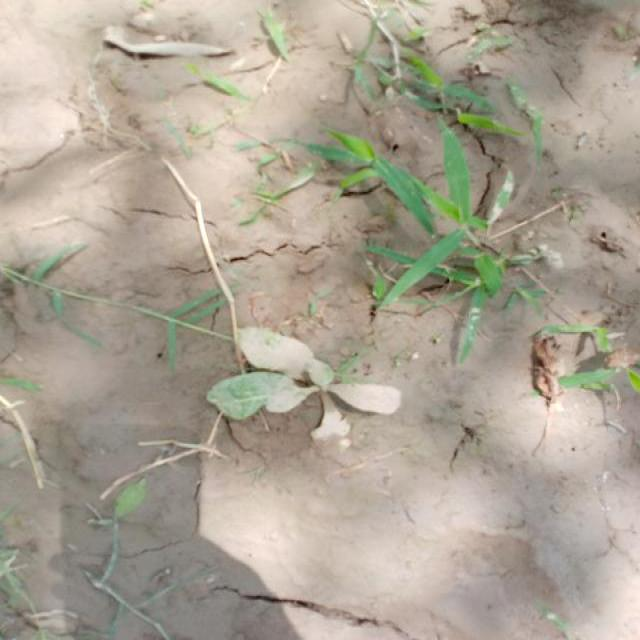crop: (207, 324, 399, 450)
